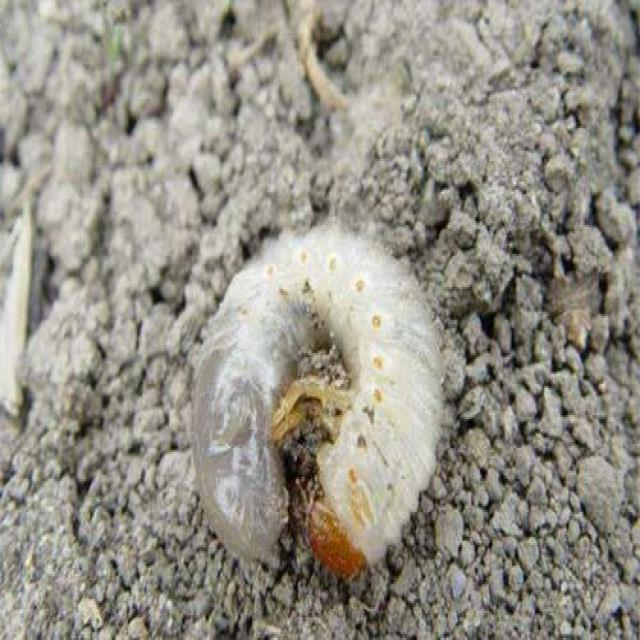Grub-Adult-: (189, 209, 457, 588)
